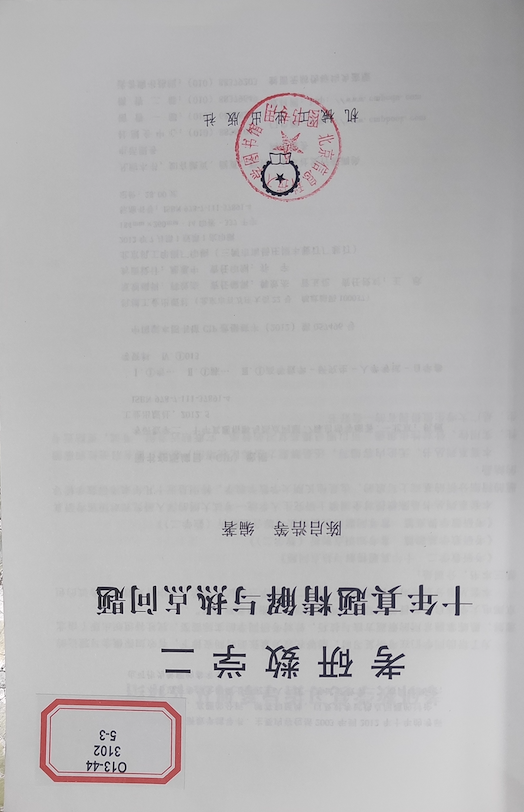Text_area: (95, 506, 478, 690), (207, 80, 368, 205), (33, 687, 219, 783)
